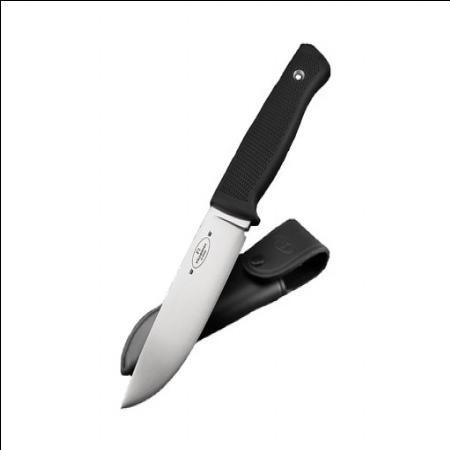long weapon: (112, 184, 262, 412)
